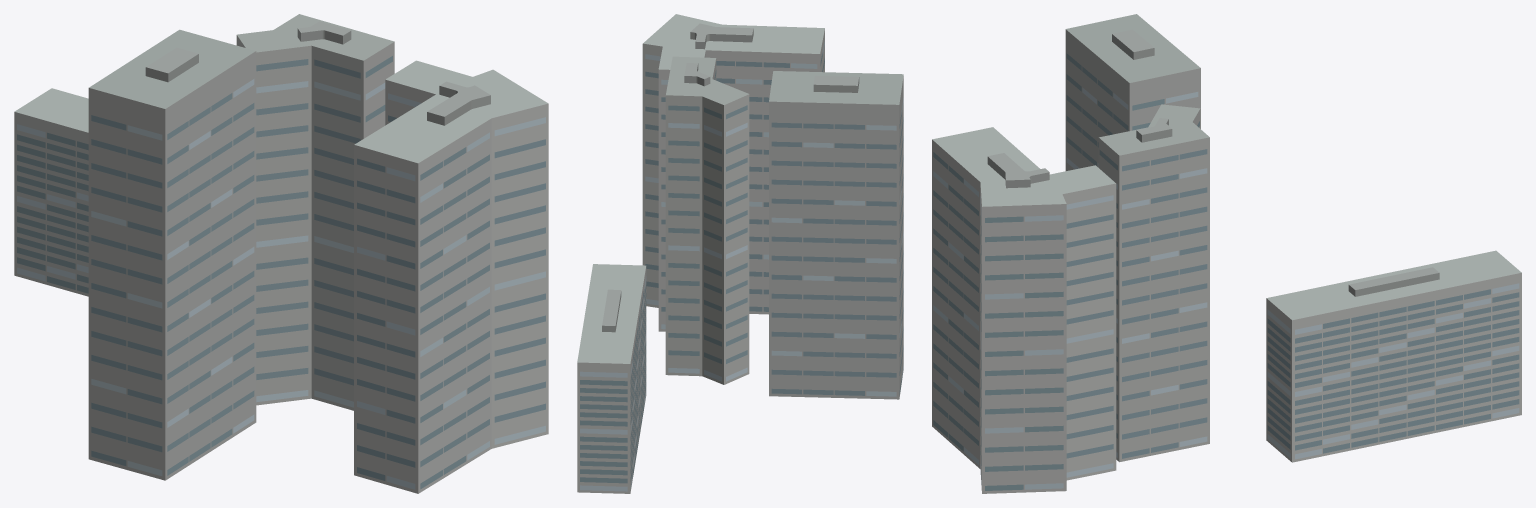
Rendered from apt-a13786606.glb.
3 views of the same model, side by side, from view 1: azimuth 30°, elevation 25°; view 2: azimuth 150°, elevation 25°; view 3: azimuth 270°, elevation 25° (orthographic). The views are drawn at different scales.
Visible parts, largest first — view 1: apt-a13786606; view 2: apt-a13786606; view 3: apt-a13786606.
Boxes of the visible parts, x1=… form: apt-a13786606: x1=14, y1=14, x2=548, y2=493; apt-a13786606: x1=577, y1=14, x2=903, y2=493; apt-a13786606: x1=932, y1=14, x2=1521, y2=493.
Bounding box in the file's own units: 104 × 102 × 165.
